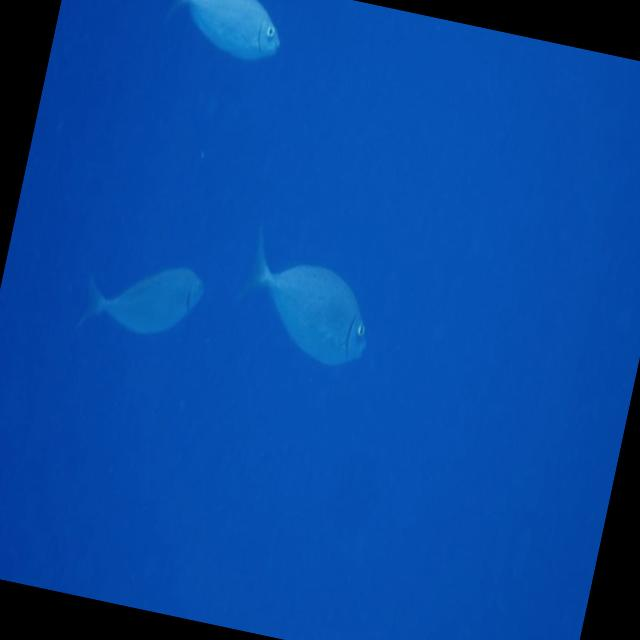Sokar Baligi: (220, 208, 393, 382), (67, 244, 215, 361), (156, 0, 301, 75)
